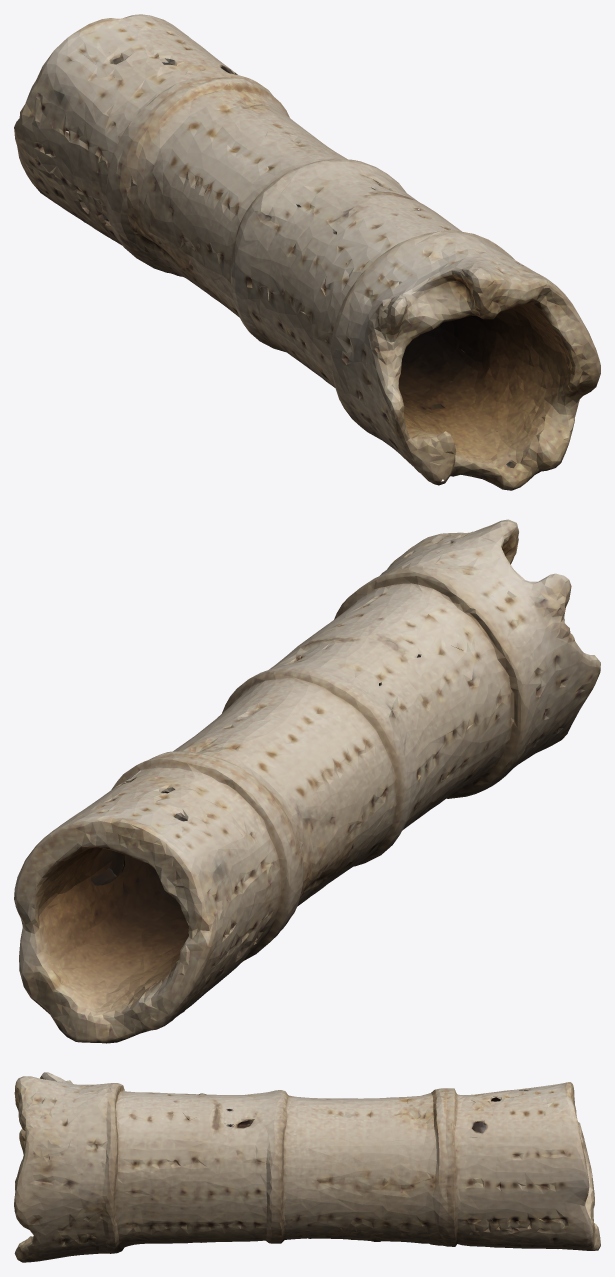
The picture shows the model from 3 angles, top to bottom: view 1: azimuth 30°, elevation 25°; view 2: azimuth 150°, elevation 25°; view 3: azimuth 270°, elevation 25°; orthographic projection. The views are drawn at different scales.
Visible parts, largest first — view 1: world; view 2: world; view 3: world.
Boxes of the visible parts, x1=… form: world: x1=14, y1=14, x2=600, y2=490; world: x1=14, y1=519, x2=600, y2=1043; world: x1=14, y1=1072, x2=600, y2=1262.
Size of the model in its own units: 0.0313 by 0.0332 by 0.1033.
1 material, 1 textured.
